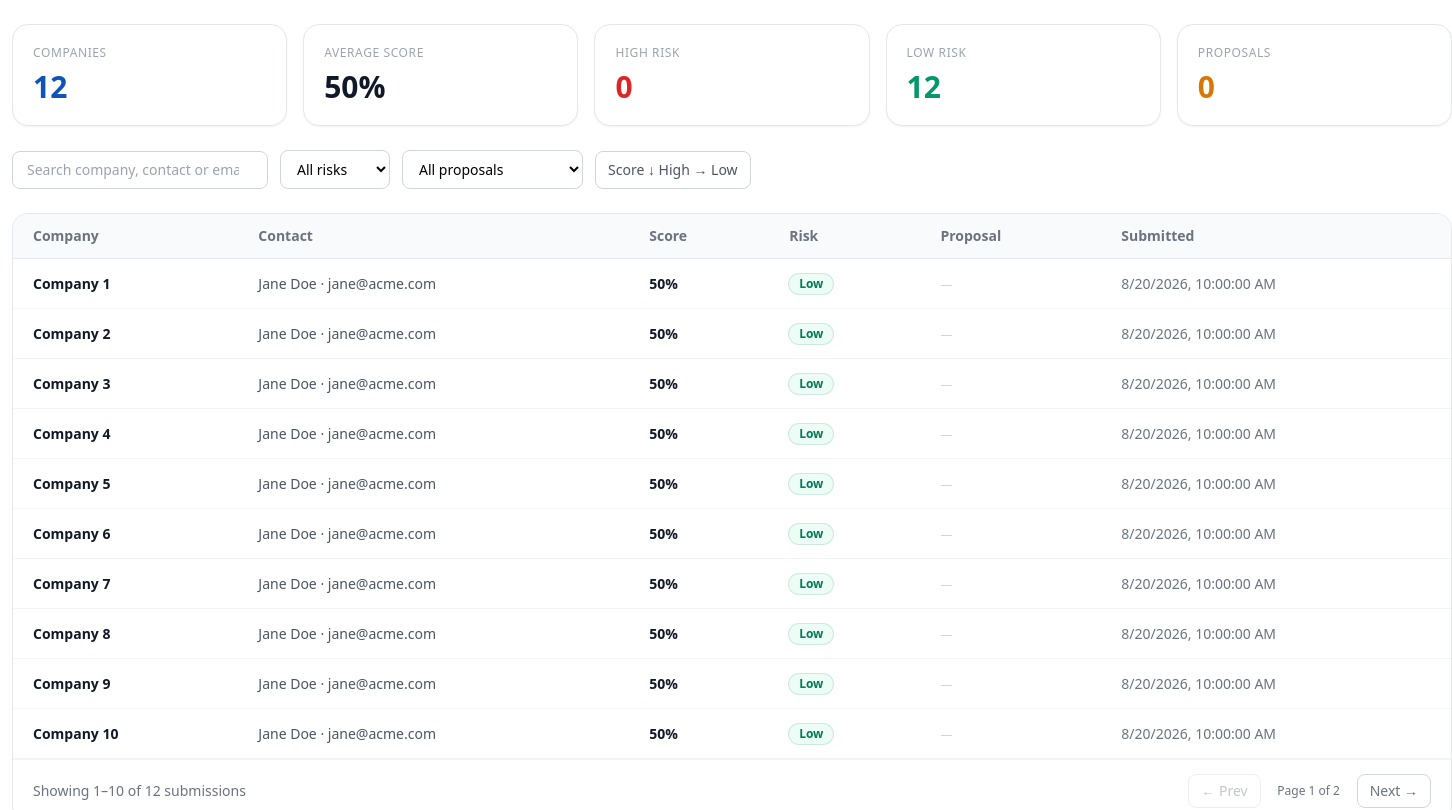
Scenario: DashboardTable › paginates submissions 10 per page
Expected: the text "Company 1" is shown, [13,258,238,308]
Expected: the text "Company 11" is not shown
Click the button "Next →".
click(1394, 791)  # box [1357,774,1431,808]
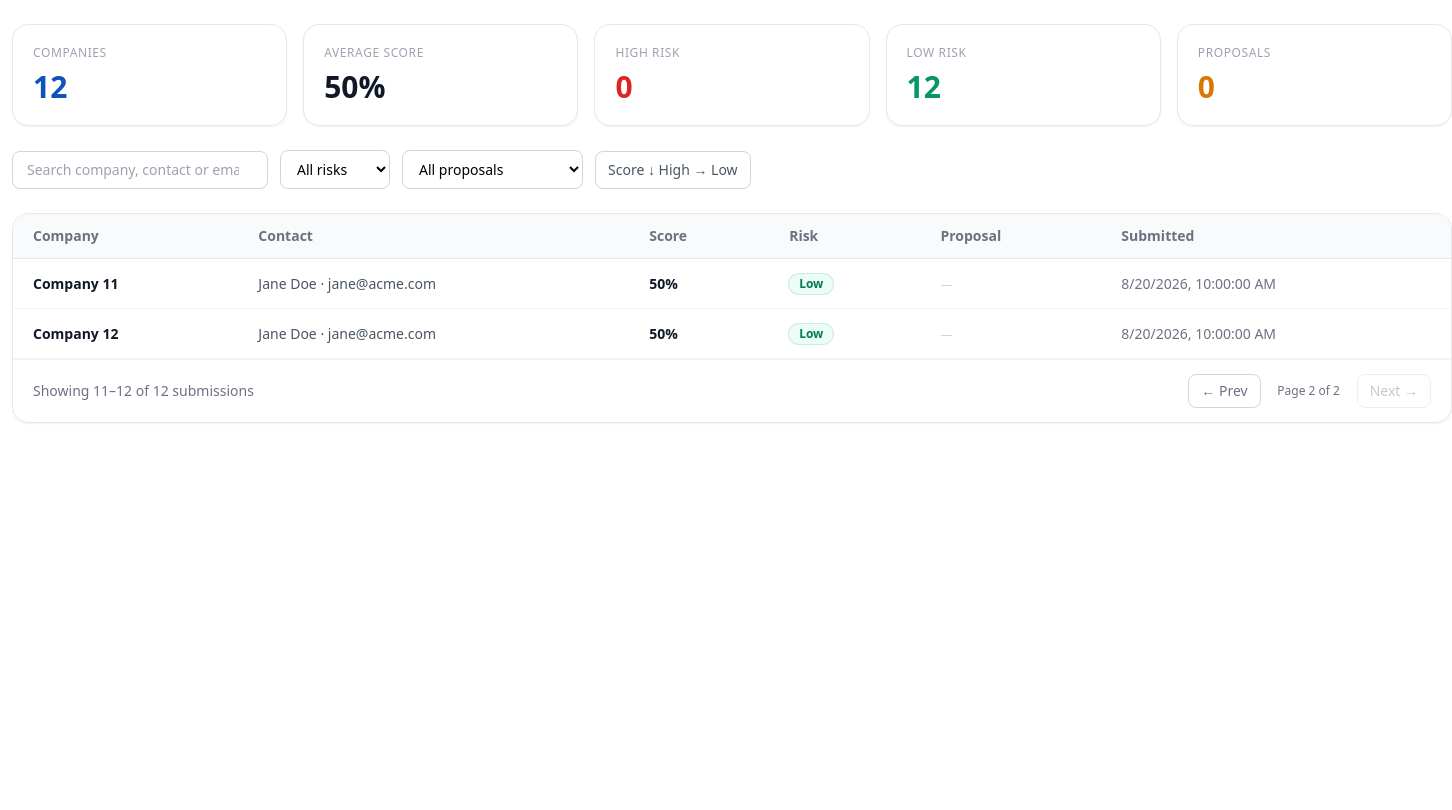
Expected: the text "Company 11" is shown, [13,258,238,308]
Expected: the text "Company 12" is shown, [13,308,238,358]
